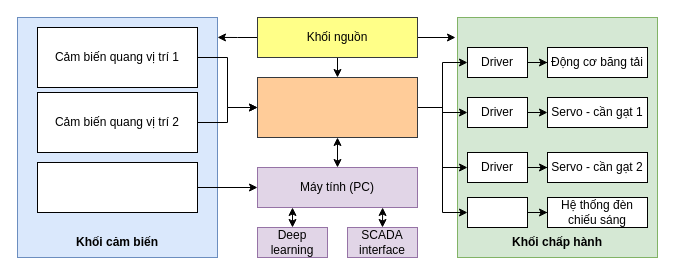
The diagram is 675 pixels wide and 275 high, and some of its shapes have lost their labels. Here are the shapes that lost their labels. From the top down, the centre of each, then its label:
At (337,107): "Bộ điều khiển trung tâm (PLC Mitsubishi FX1N - 60MT)".
At (117,187): "Camera".
At (497,212): "Relay".
